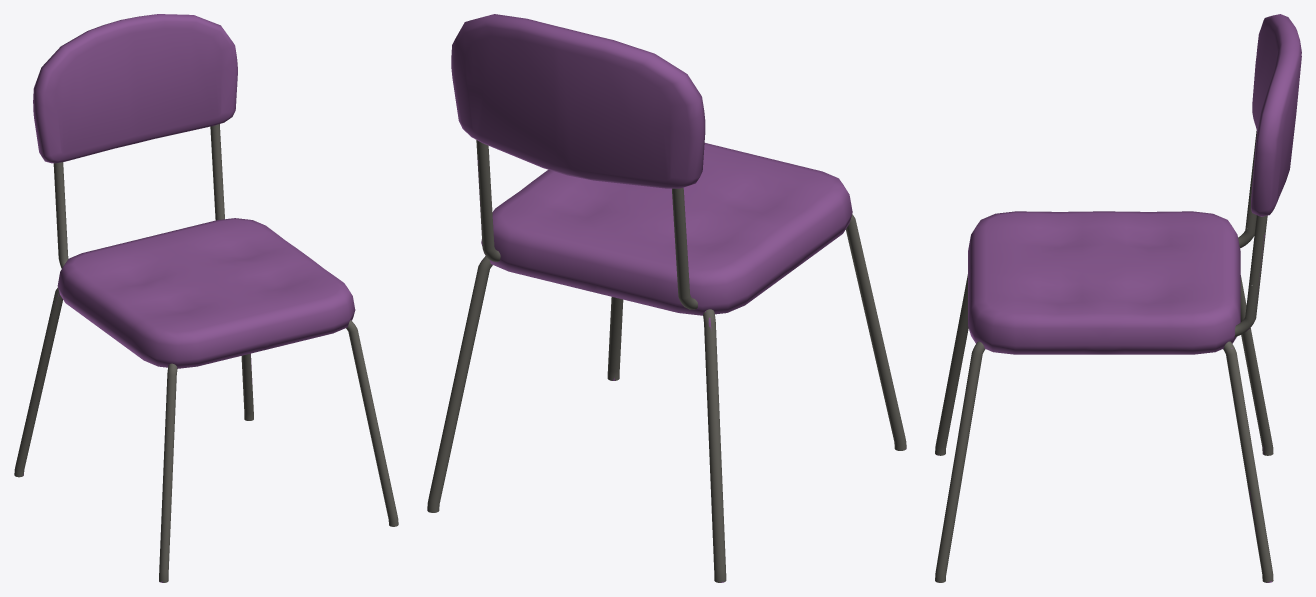
Rendered from sillaMorada.fbx.
3 renders of one model, left to right at view 1: azimuth 30°, elevation 25°; view 2: azimuth 150°, elevation 25°; view 3: azimuth 270°, elevation 25°, orthographic. The views are drawn at different scales.
Visible parts, largest first — view 1: soporte respaldo; view 2: soporte respaldo; view 3: soporte respaldo.
Part boxes in pixels (x1,y1,x2,y2): soporte respaldo: (14,14,398,582); soporte respaldo: (427,14,906,582); soporte respaldo: (935,14,1301,582).
Size of the model in its own units: 54.01 by 90.93 by 63.55.
